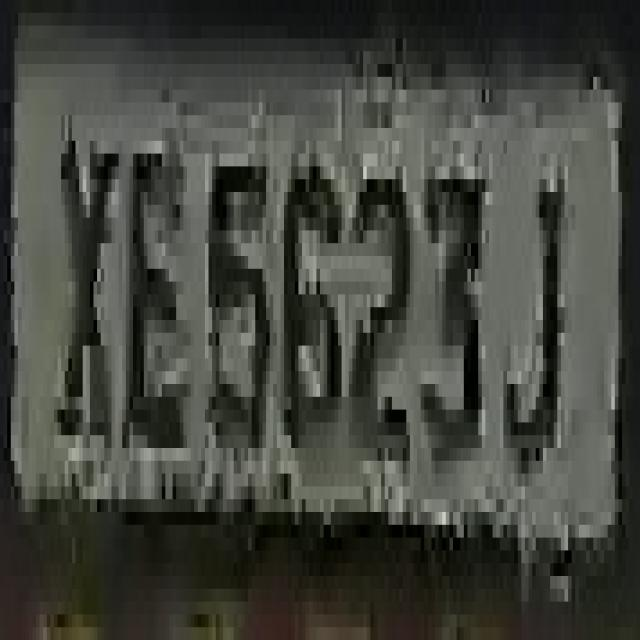2: (345, 166, 421, 499)
3: (417, 115, 485, 474)
5: (205, 115, 270, 474)
6: (273, 128, 345, 474)
E: (115, 115, 180, 461)
J: (489, 141, 572, 461)
X: (54, 115, 115, 461)
